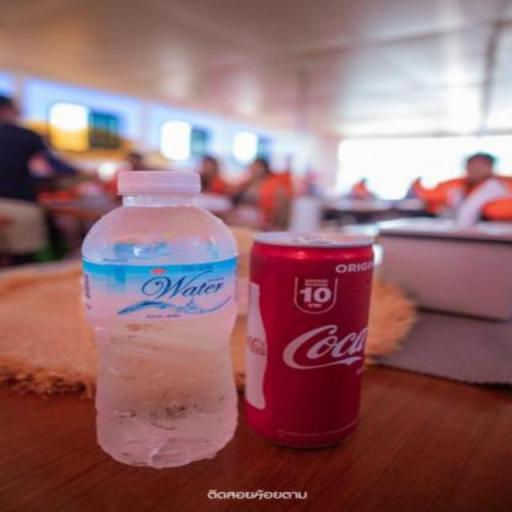Coca: (74, 161, 248, 477)
